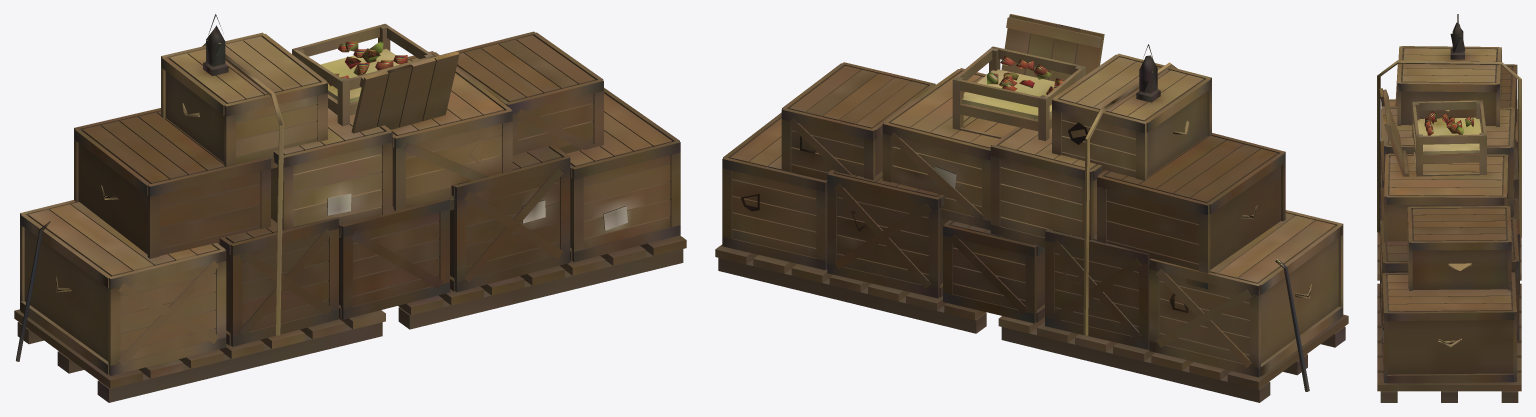
Rendered from crate-wall.low.glb.
The picture shows the model from 3 angles, left to right: view 1: azimuth 30°, elevation 25°; view 2: azimuth 150°, elevation 25°; view 3: azimuth 270°, elevation 25°; orthographic projection. The views are drawn at different scales.
Visible parts, largest first — view 1: crate-wall; view 2: crate-wall; view 3: crate-wall.
Boxes of the visible parts, x1,y1,x2,y2 form: crate-wall: (14,14,686,402); crate-wall: (715,14,1348,402); crate-wall: (1377,14,1521,402).
Size of the model in its own units: 3.15 by 1.55 by 0.8635.
Materials: 1 (1 with a texture image).
